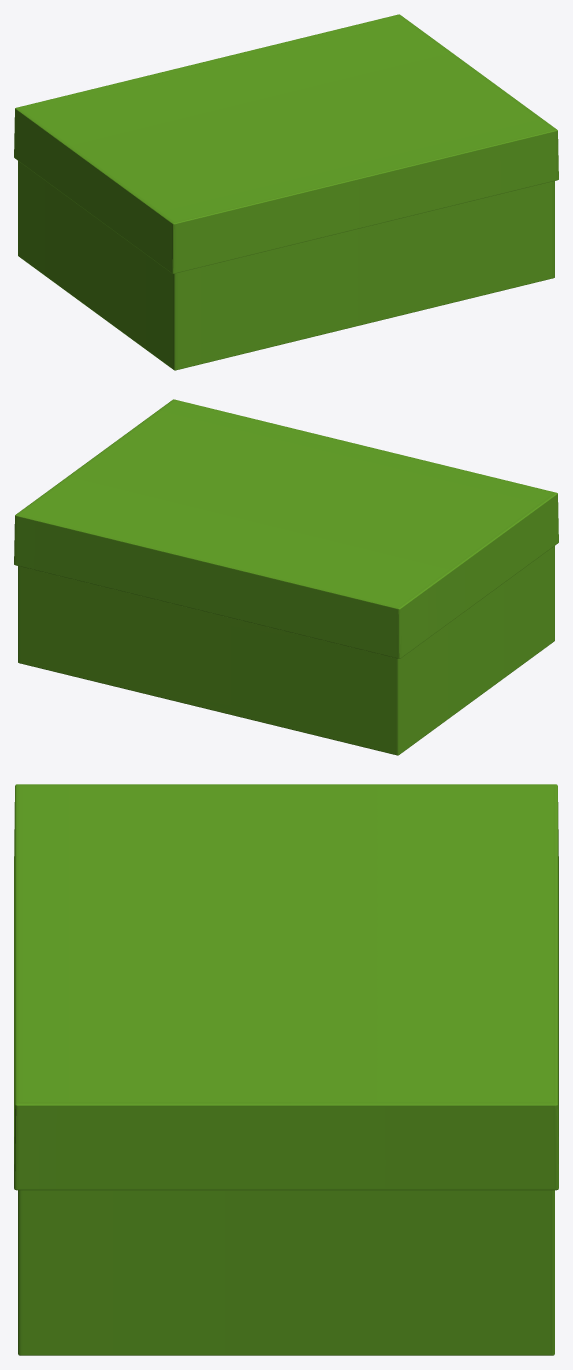
The model's file is Green Shoebox.fbx.
3 views of the same model, one above another, from view 1: azimuth 30°, elevation 25°; view 2: azimuth 150°, elevation 25°; view 3: azimuth 270°, elevation 25° (orthographic). The views are drawn at different scales.
Parts seen in each view (by area): view 1: Green Shoebox; view 2: Green Shoebox; view 3: Green Shoebox.
Boxes of the visible parts, <box> form: Green Shoebox: <box>14,14,558,370</box>; Green Shoebox: <box>14,399,558,755</box>; Green Shoebox: <box>14,784,558,1355</box>.
Size of the model in its own units: 95.2 by 186 by 260.
Materials: 1 (1 with a texture image).
